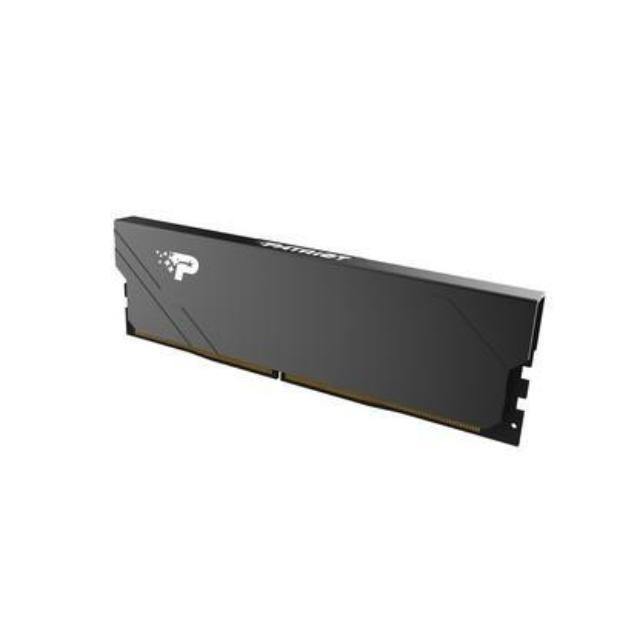RAM: (100, 204, 546, 459)
